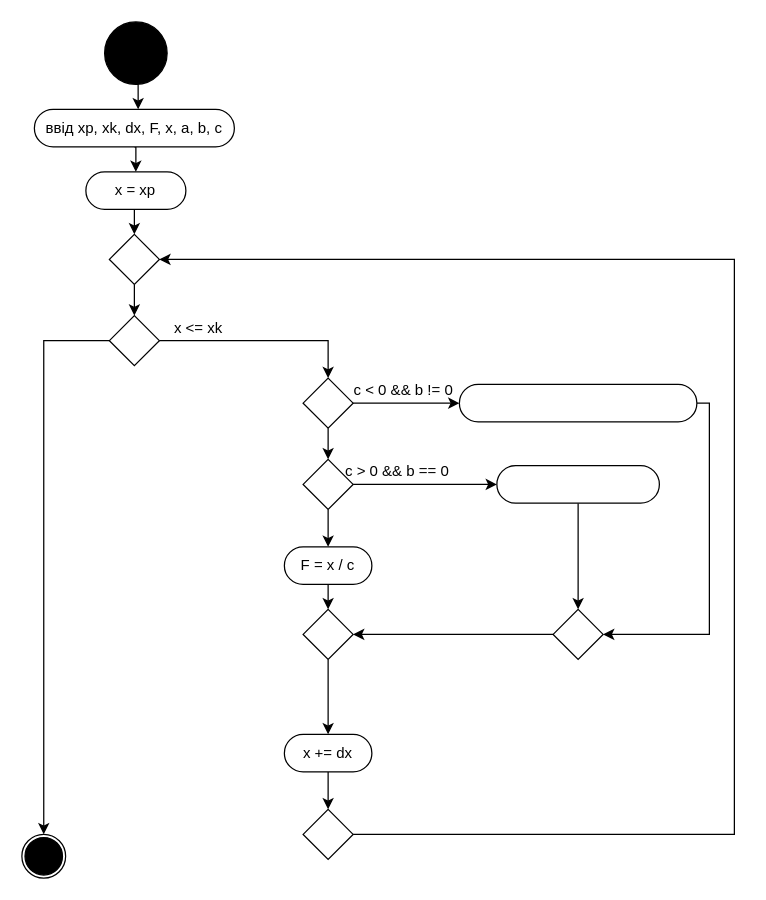
The diagram is 766 pixels wide and 900 high, and some of its shapes have lost their labels. The shapes that lost their labels are listed below. From the top down, each one's box as (x1, y1, x2, y2) in pixels, then its label:
(458, 383, 697, 422): F = a * pow(x, 2) + pow(b, 2) * x
(496, 464, 659, 503): F = (x + a) / (x + c)
